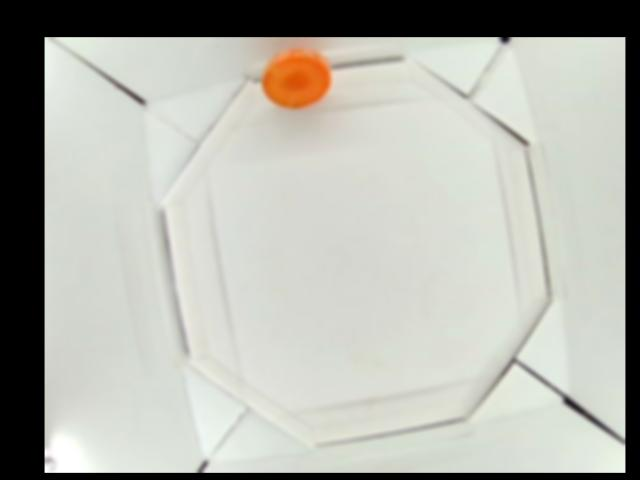Carrot: (260, 48, 332, 107)
